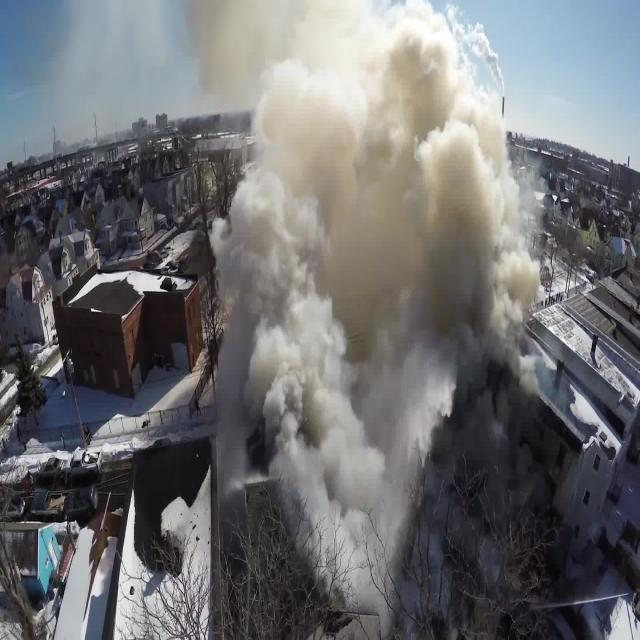Smoke: (189, 0, 544, 630)
